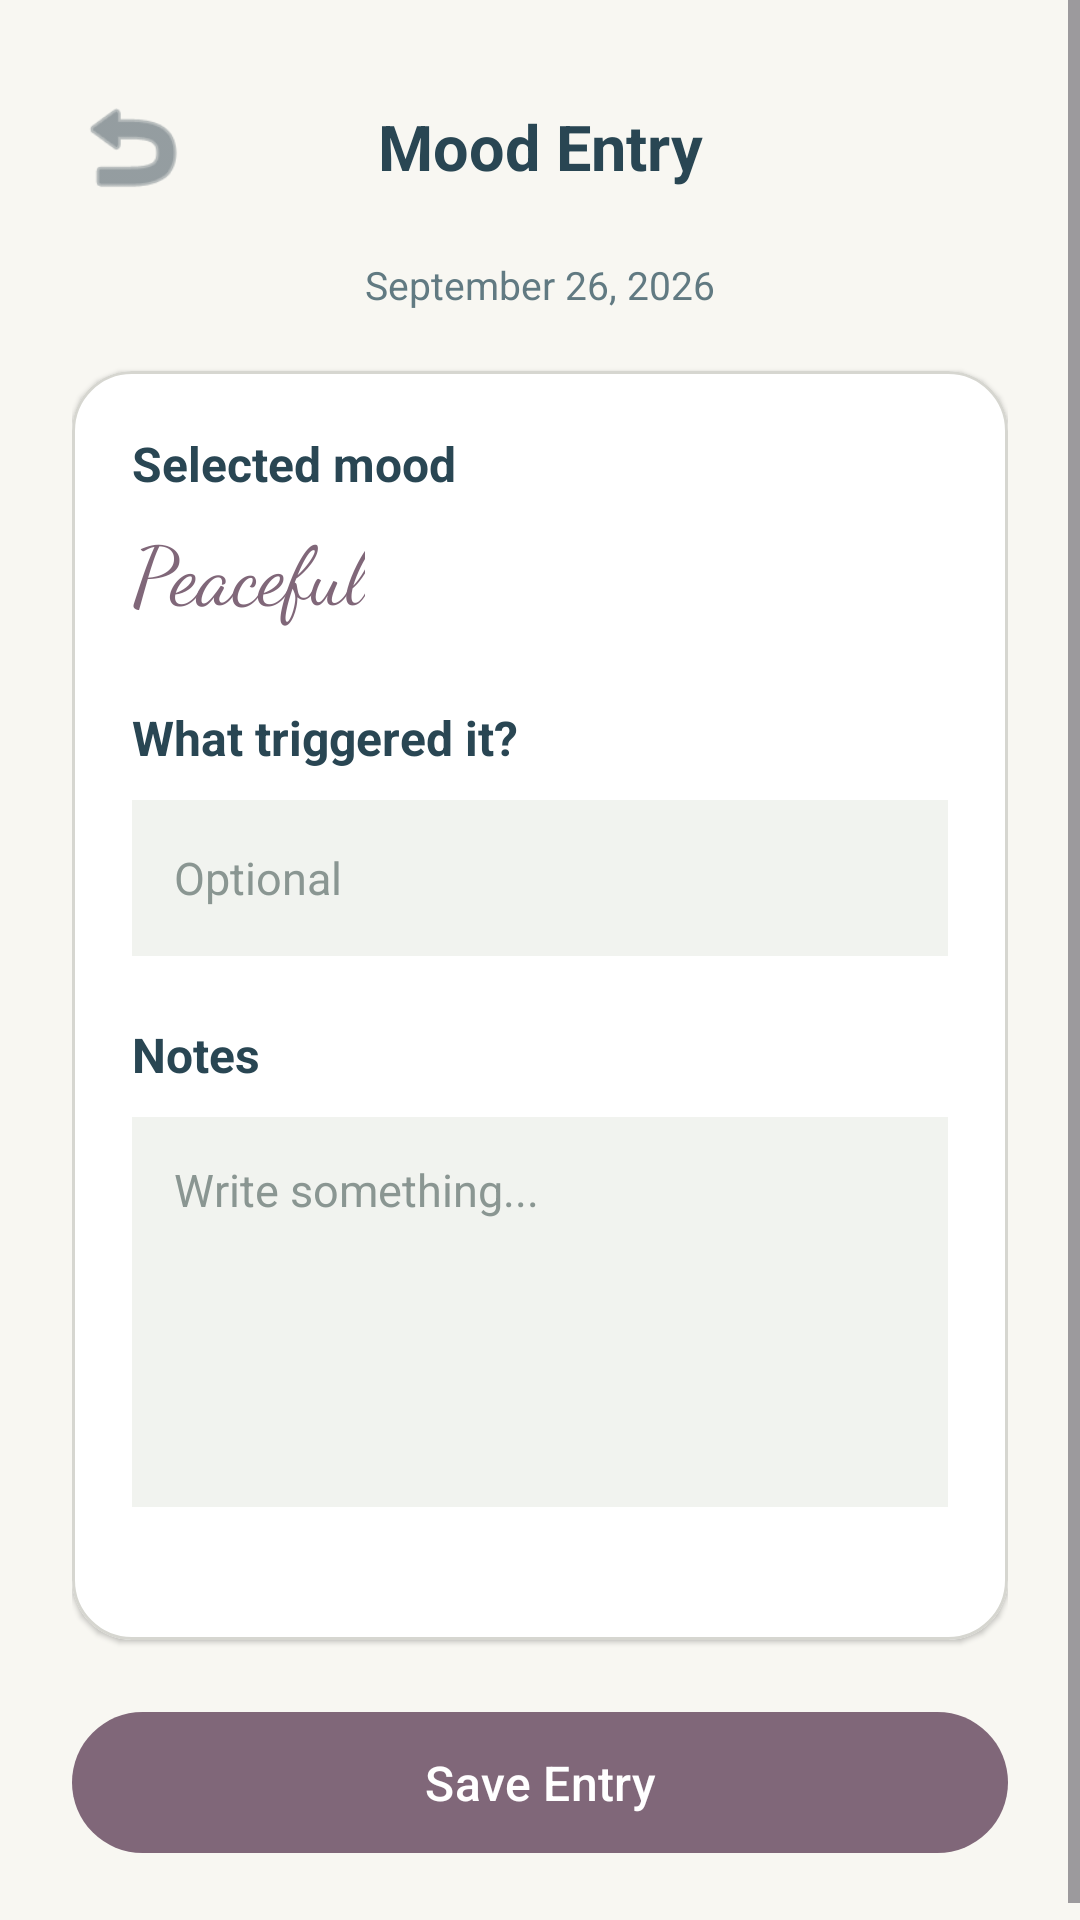

Screen size 1080×1920. Icon name, then its box in pixels as (x1, y1, x2, y2):
Back: (90, 109, 177, 187)
